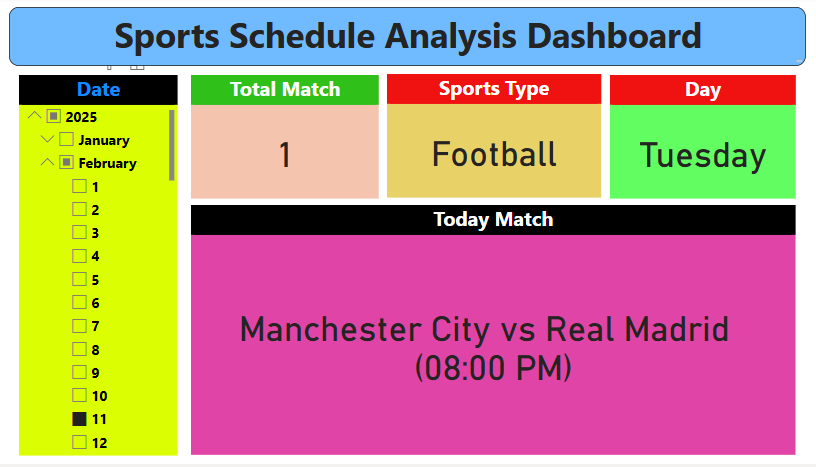

The dashboard page shown, as its layout file describes it:
{"tool":"powerbi","page":{"name":"Page 1","canvas":[1280,720],"ordinal":0},"visuals":[{"type":"slicer","title":"Date","fields":{"Values":["Sheet1 (2).Date .Variation.Date Hierarchy.Year","Sheet1 (2).Date .Variation.Date Hierarchy.Month","Sheet1 (2).Date .Variation.Date Hierarchy.Day"]},"box":[40,120,245.2,587.8],"z":0},{"type":"card","title":"Today Match","fields":{"Values":["Min(Sheet1 (2).Match)"]},"box":[306.1,321.7,933.9,386.1],"z":1000},{"type":"card","title":"Total Match","fields":{"Values":["Sum(Sheet1 (2).Match Number)"]},"box":[306.1,120,290.4,191.3],"z":2000},{"type":"card","title":"Sports Type","fields":{"Values":["Min(Sheet1 (2).Sports Type)"]},"box":[608.1,119.3,330.9,191.5],"z":3000},{"type":"card","title":"Day","fields":{"Values":["Min(Sheet1 (2).Day)"]},"box":[953,120,287,191.3],"z":4000},{"type":"textbox","title":"Sports Schedule Analysis Dashboard","box":[25.2,15.1,1231.3,90.7],"z":5000}]}

Visuals, with their boxes in screenshot pixels (x1, y1, x2, y2), scaled from the page's 1280x720 canvas onto the 816x467 screenshot:
"Date" slicer: {"x1": 26, "y1": 78, "x2": 182, "y2": 459}
"Today Match" card: {"x1": 195, "y1": 209, "x2": 790, "y2": 459}
"Total Match" card: {"x1": 195, "y1": 78, "x2": 380, "y2": 202}
"Sports Type" card: {"x1": 388, "y1": 77, "x2": 599, "y2": 202}
"Day" card: {"x1": 608, "y1": 78, "x2": 790, "y2": 202}
"Sports Schedule Analysis Dashboard" textbox: {"x1": 16, "y1": 10, "x2": 801, "y2": 69}
